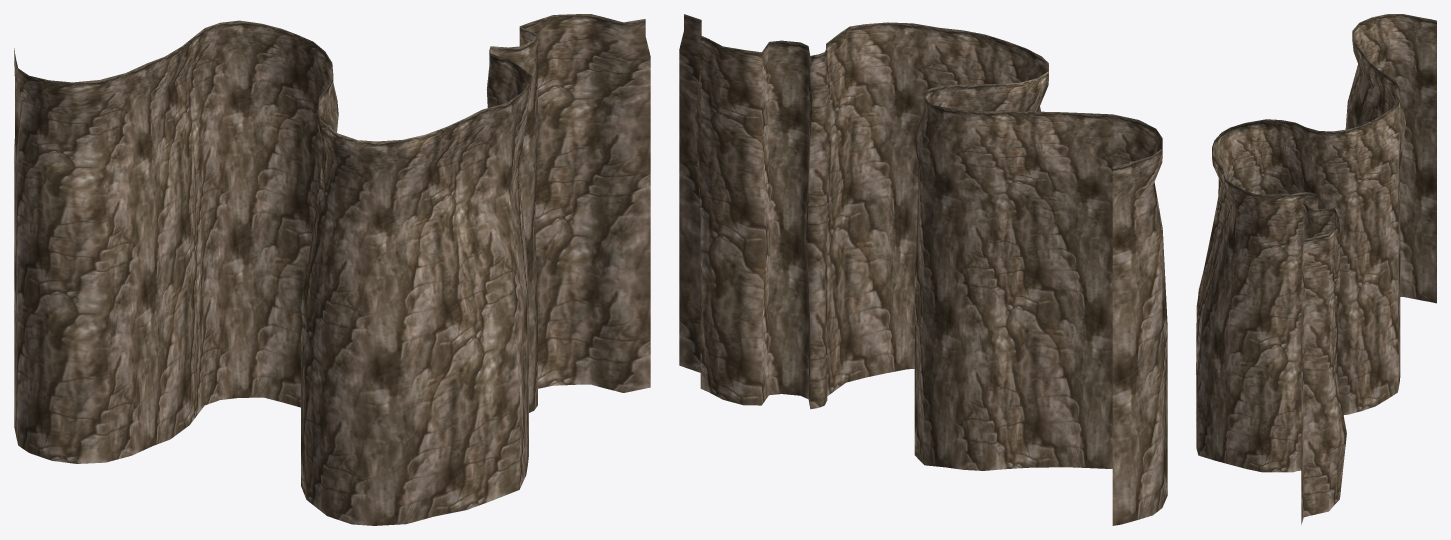
Rendered from OVERHILL_A_01_OH_B_OBJECT41.fbx.
The picture shows the model from 3 angles, left to right: view 1: azimuth 30°, elevation 25°; view 2: azimuth 150°, elevation 25°; view 3: azimuth 270°, elevation 25°; orthographic projection. The views are drawn at different scales.
Parts seen in each view (by area): view 1: OVERHILL_A_01_OH_B_OBJECT41; view 2: OVERHILL_A_01_OH_B_OBJECT41; view 3: OVERHILL_A_01_OH_B_OBJECT41.
Part boxes in pixels (x1,y1,x2,y2): OVERHILL_A_01_OH_B_OBJECT41: (14,14,650,525); OVERHILL_A_01_OH_B_OBJECT41: (679,14,1167,525); OVERHILL_A_01_OH_B_OBJECT41: (1196,14,1436,524).
Bounding box in the file's own units: 335866 × 239976 × 165489.
2 materials, 2 textured.
